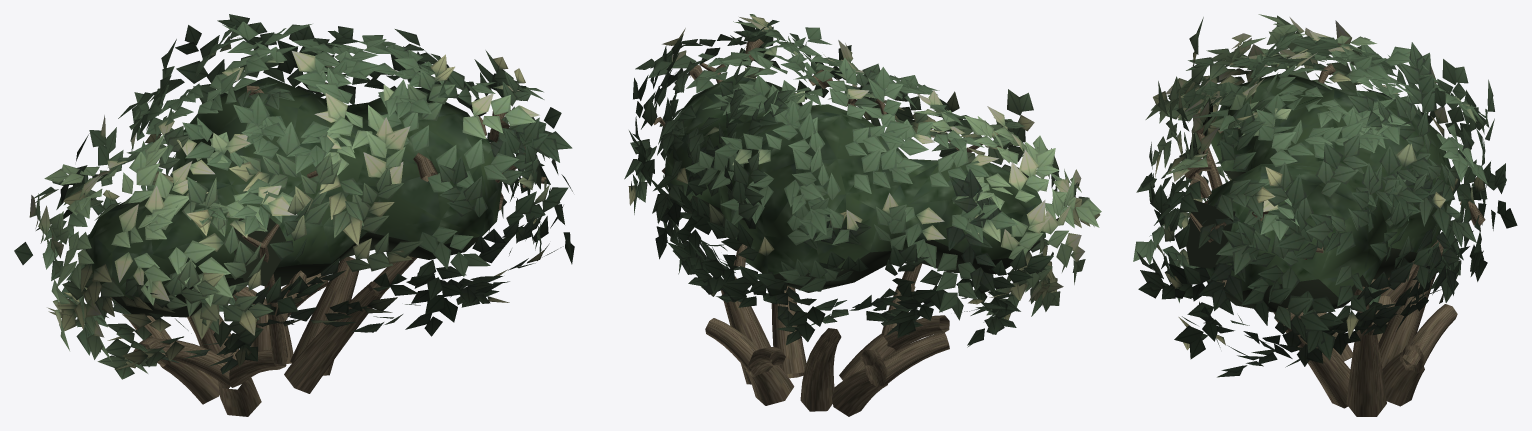
The model's file is bush_stems.glb.
3 renders of one model, left to right at view 1: azimuth 30°, elevation 25°; view 2: azimuth 150°, elevation 25°; view 3: azimuth 270°, elevation 25°, orthographic. The views are drawn at different scales.
Visible parts, largest first — view 1: bush_stems_lod0; view 2: bush_stems_lod0; view 3: bush_stems_lod0.
Part boxes in pixels (x1,y1,x2,y2): bush_stems_lod0: (14,14,574,416); bush_stems_lod0: (624,14,1101,416); bush_stems_lod0: (1133,14,1517,416).
Size of the model in its own units: 1.6 by 1.1 by 1.11.
1 material, 1 textured.
